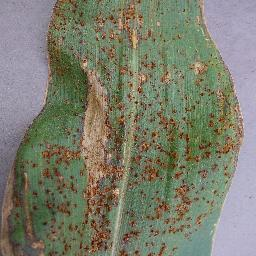Corn_Blight: (6, 2, 247, 252)
